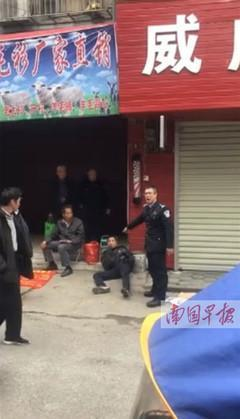Fall-Detected: (86, 231, 135, 299)
